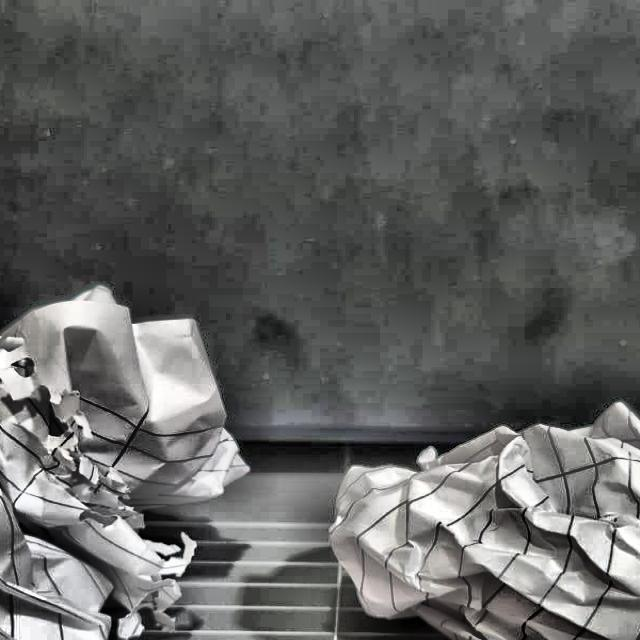paper: (328, 365, 640, 640), (0, 297, 236, 640)
